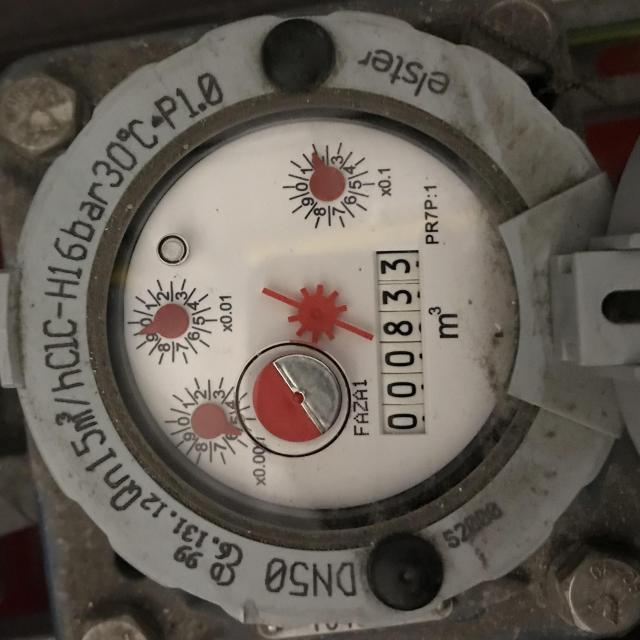gaz_meter: (109, 116, 526, 515)
indication: (372, 250, 429, 438)
